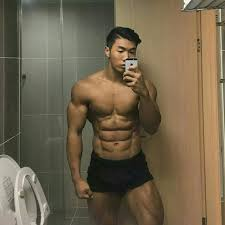people: (69, 27, 164, 225)
